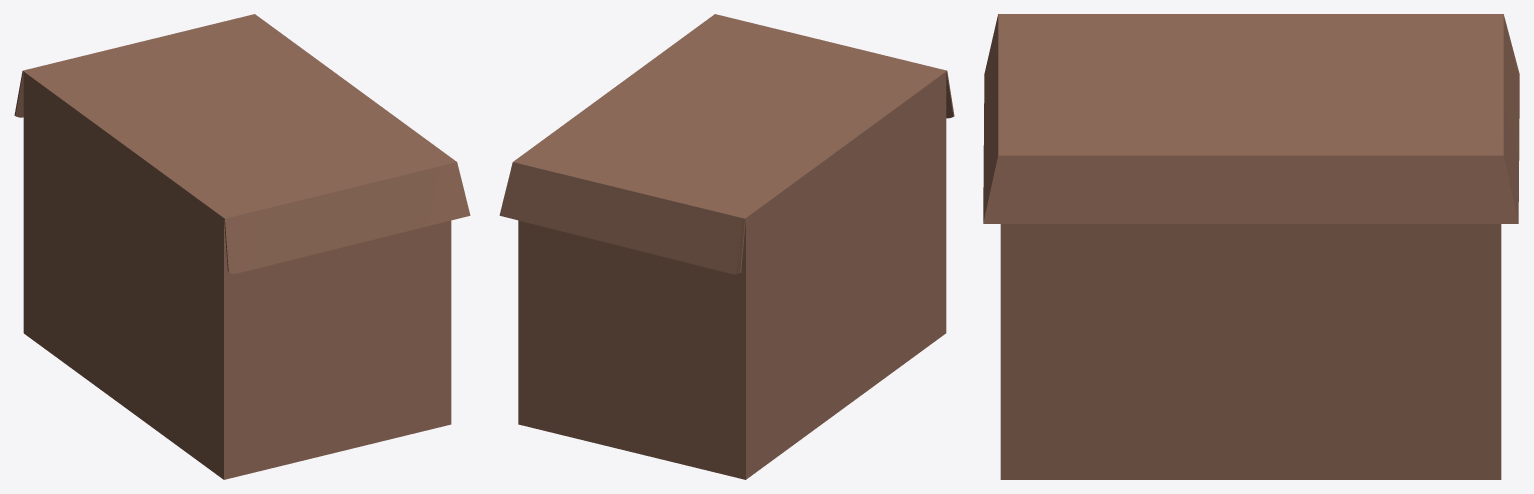
File: CAJA.fbx
3 renders of one model, left to right at view 1: azimuth 30°, elevation 25°; view 2: azimuth 150°, elevation 25°; view 3: azimuth 270°, elevation 25°, orthographic. The views are drawn at different scales.
Visible parts, largest first — view 1: box; view 2: box; view 3: box.
Boxes of the visible parts, left/top/right/bottom form: box: left=14, top=14, right=470, bottom=479; box: left=499, top=14, right=954, bottom=479; box: left=983, top=14, right=1519, bottom=479.
Size of the model in its own units: 342 by 355 by 527.
